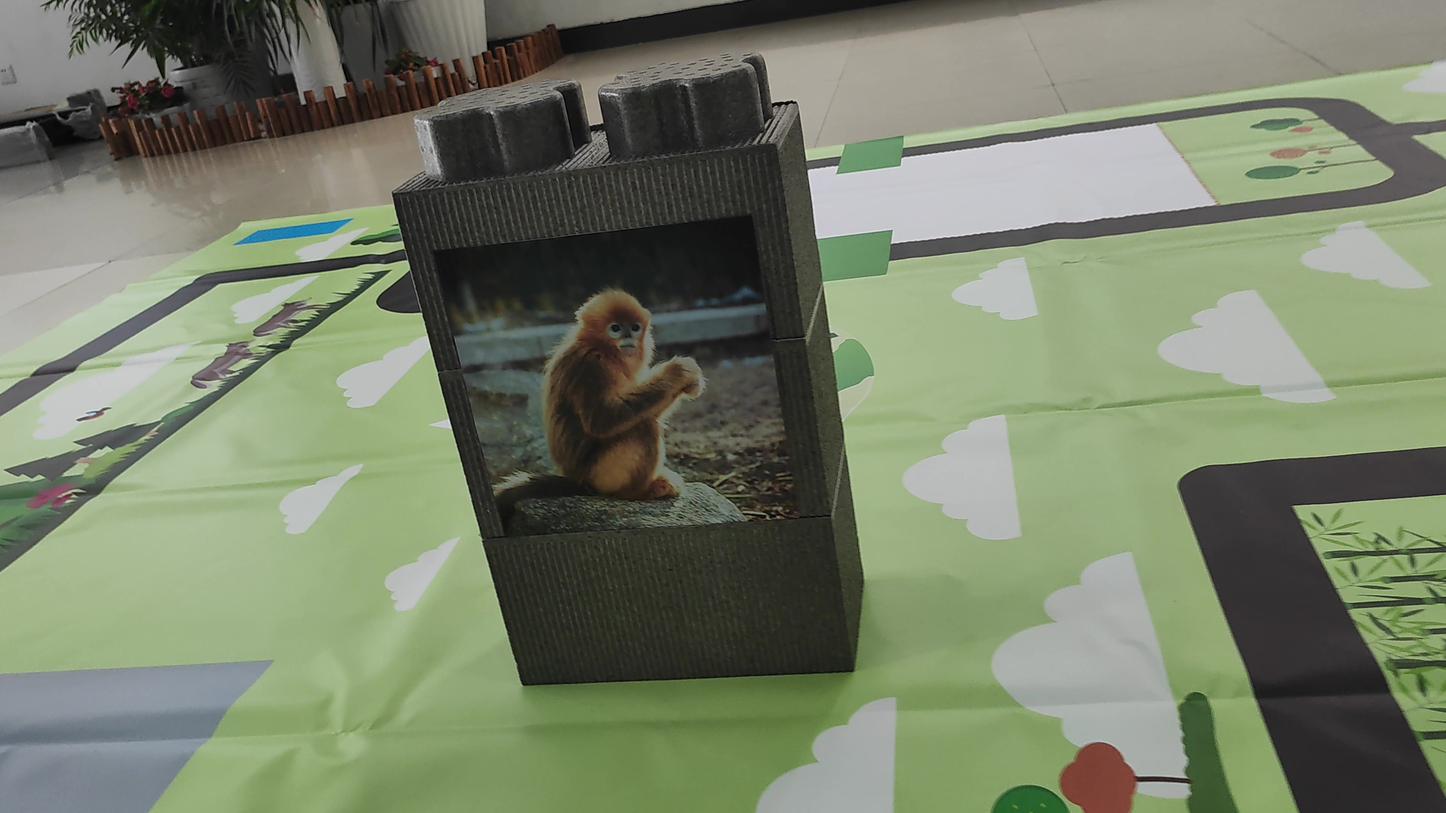monkey: (493, 275, 750, 544)
